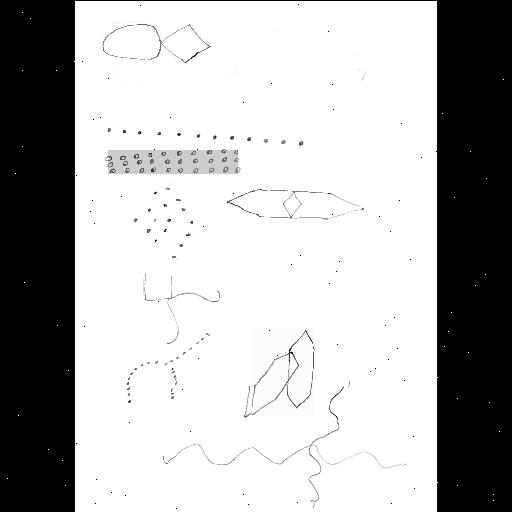shape-1: (104, 24, 210, 62)
shape-2: (108, 126, 302, 146)
shape-3: (108, 150, 238, 174)
shape-4: (134, 186, 194, 258)
shape-5: (144, 270, 220, 342)
shape-6: (128, 332, 208, 402)
shape-7: (166, 386, 404, 504)
shape-8: (252, 328, 314, 416)
shape-9: (226, 188, 362, 220)
